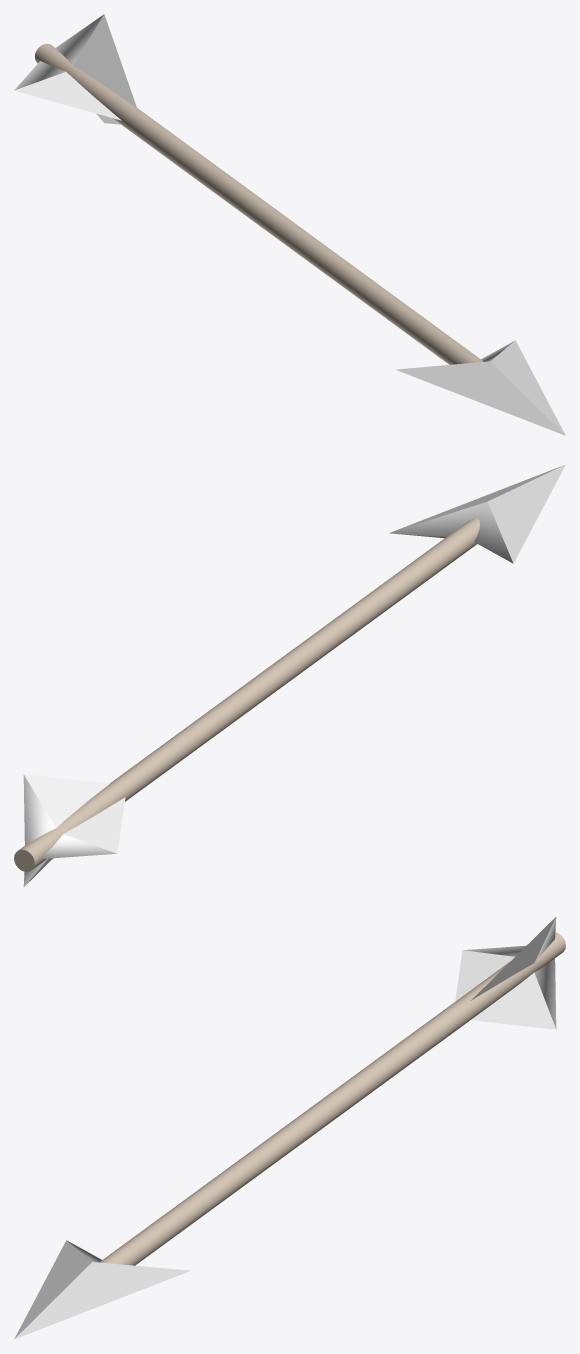
File: arrow.fbx
The picture shows the model from 3 angles, top to bottom: view 1: azimuth 30°, elevation 25°; view 2: azimuth 150°, elevation 25°; view 3: azimuth 330°, elevation 25°; orthographic projection. The views are drawn at different scales.
Visible parts, largest first — view 1: pCylinder3; view 2: pCylinder3; view 3: pCylinder3.
Part boxes in pixels (x1,y1,x2,y2): pCylinder3: (14, 14, 565, 435); pCylinder3: (14, 464, 565, 886); pCylinder3: (14, 917, 565, 1339).
Bounding box in the file's own units: 0.3 × 0.2598 × 2.25.
